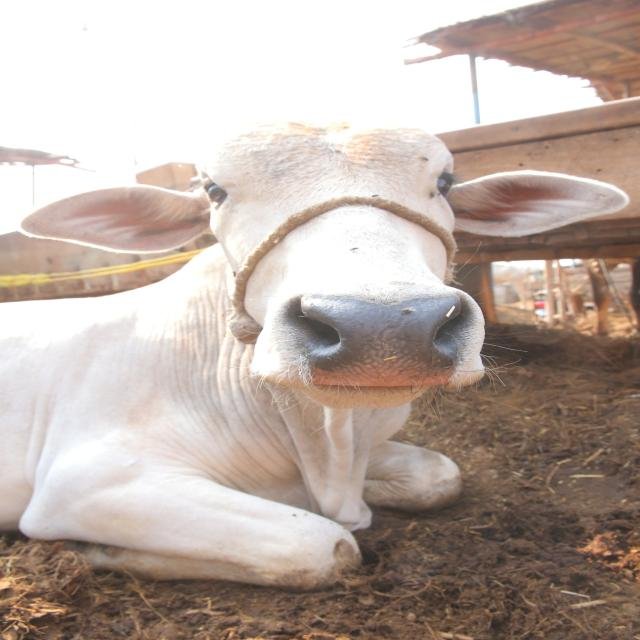muzzles: (272, 284, 492, 396)
